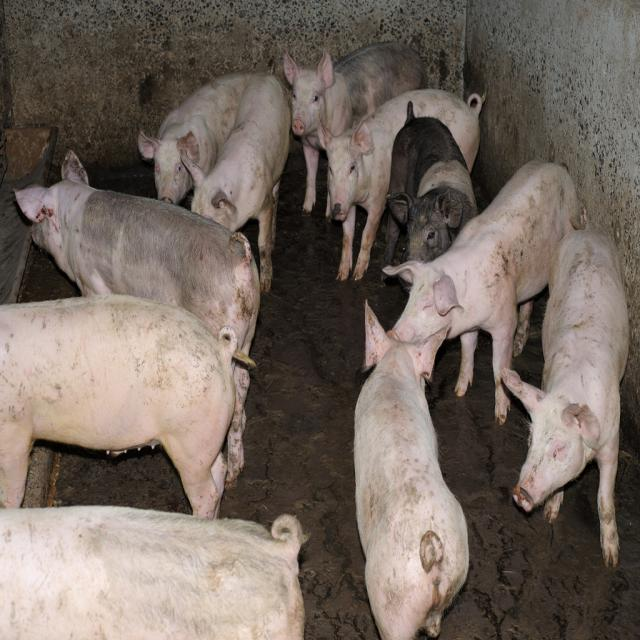Pig: (0, 38, 631, 640)
